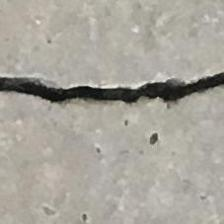Crack: (0, 39, 224, 118)
